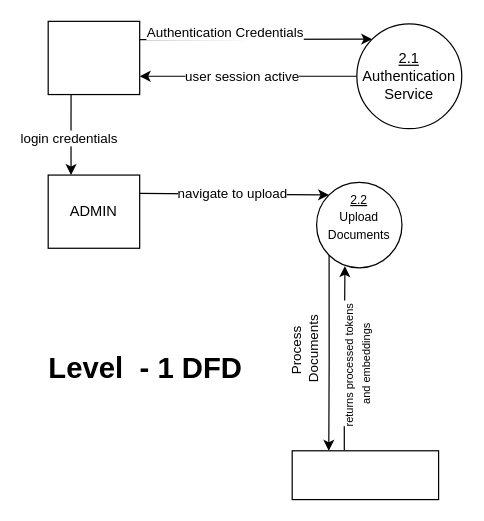
This 484x521 diagram has some shape labels left out. The shapes that lost their labels are listed below. From the top down, each one's box as (x1, y1, x2, y2) in pixels, then its label:
(47, 20, 140, 95): USER
(291, 450, 439, 500): Production Backend
